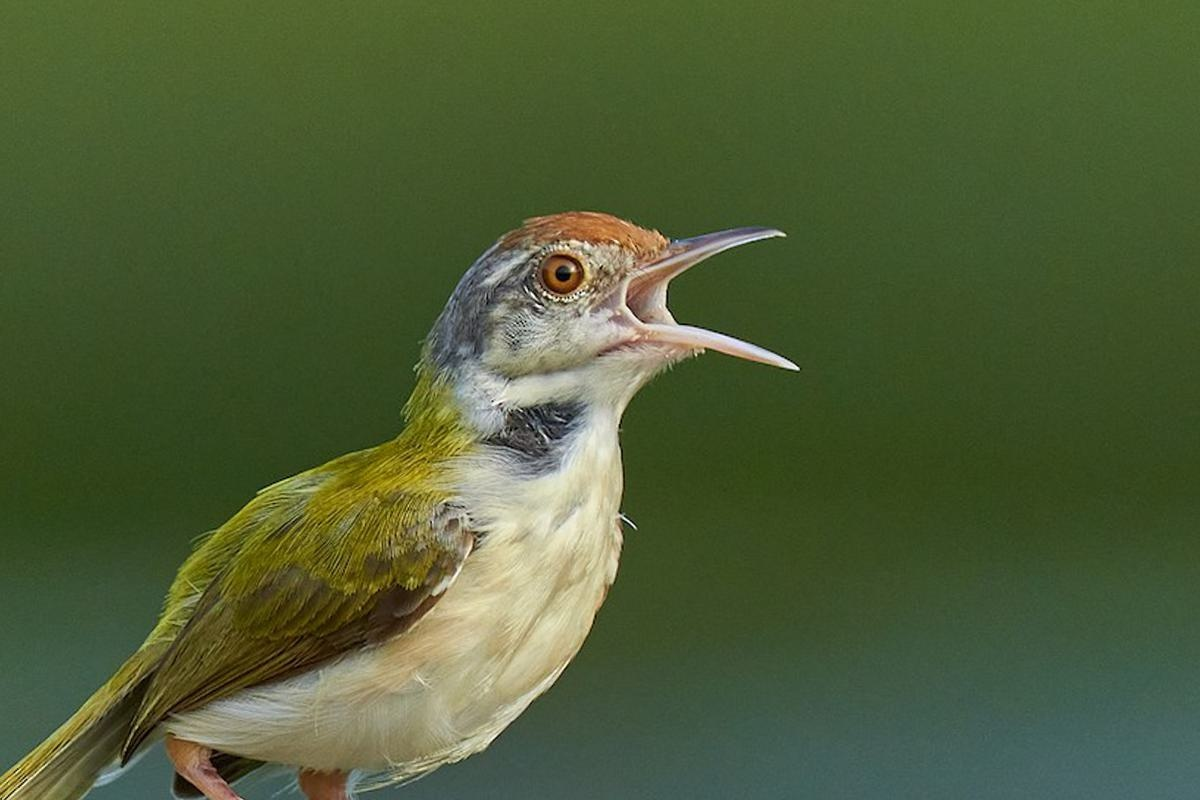tailorbird: (1, 171, 857, 800)
